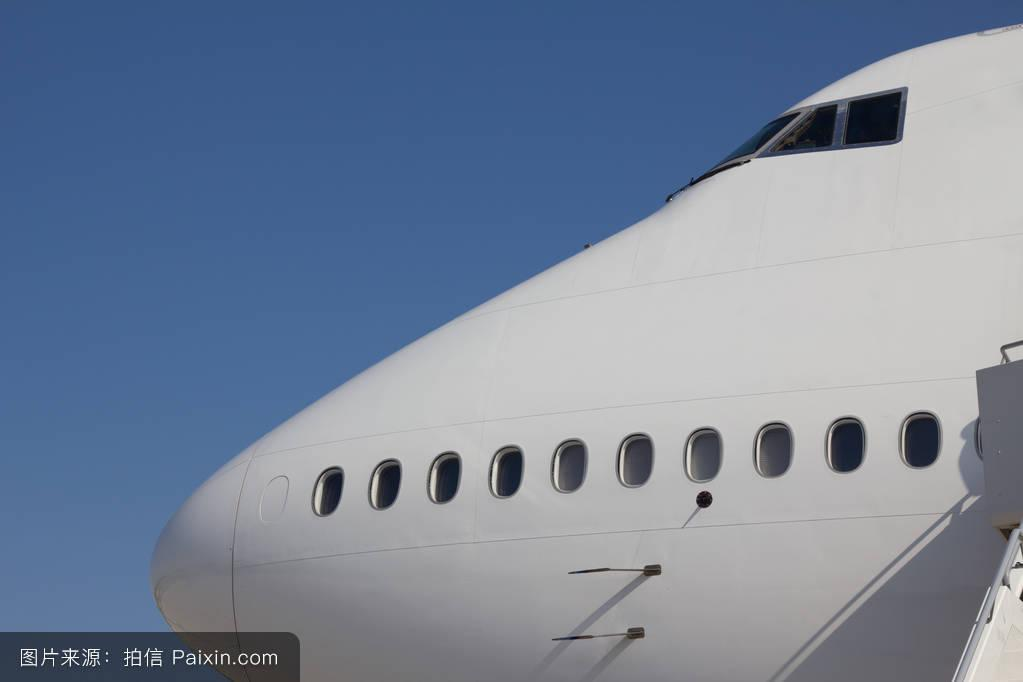airplane: (140, 22, 1021, 682)
